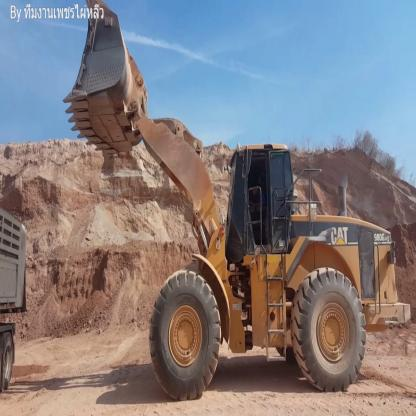bull_dozer/loader/grader: (58, 3, 414, 412)
